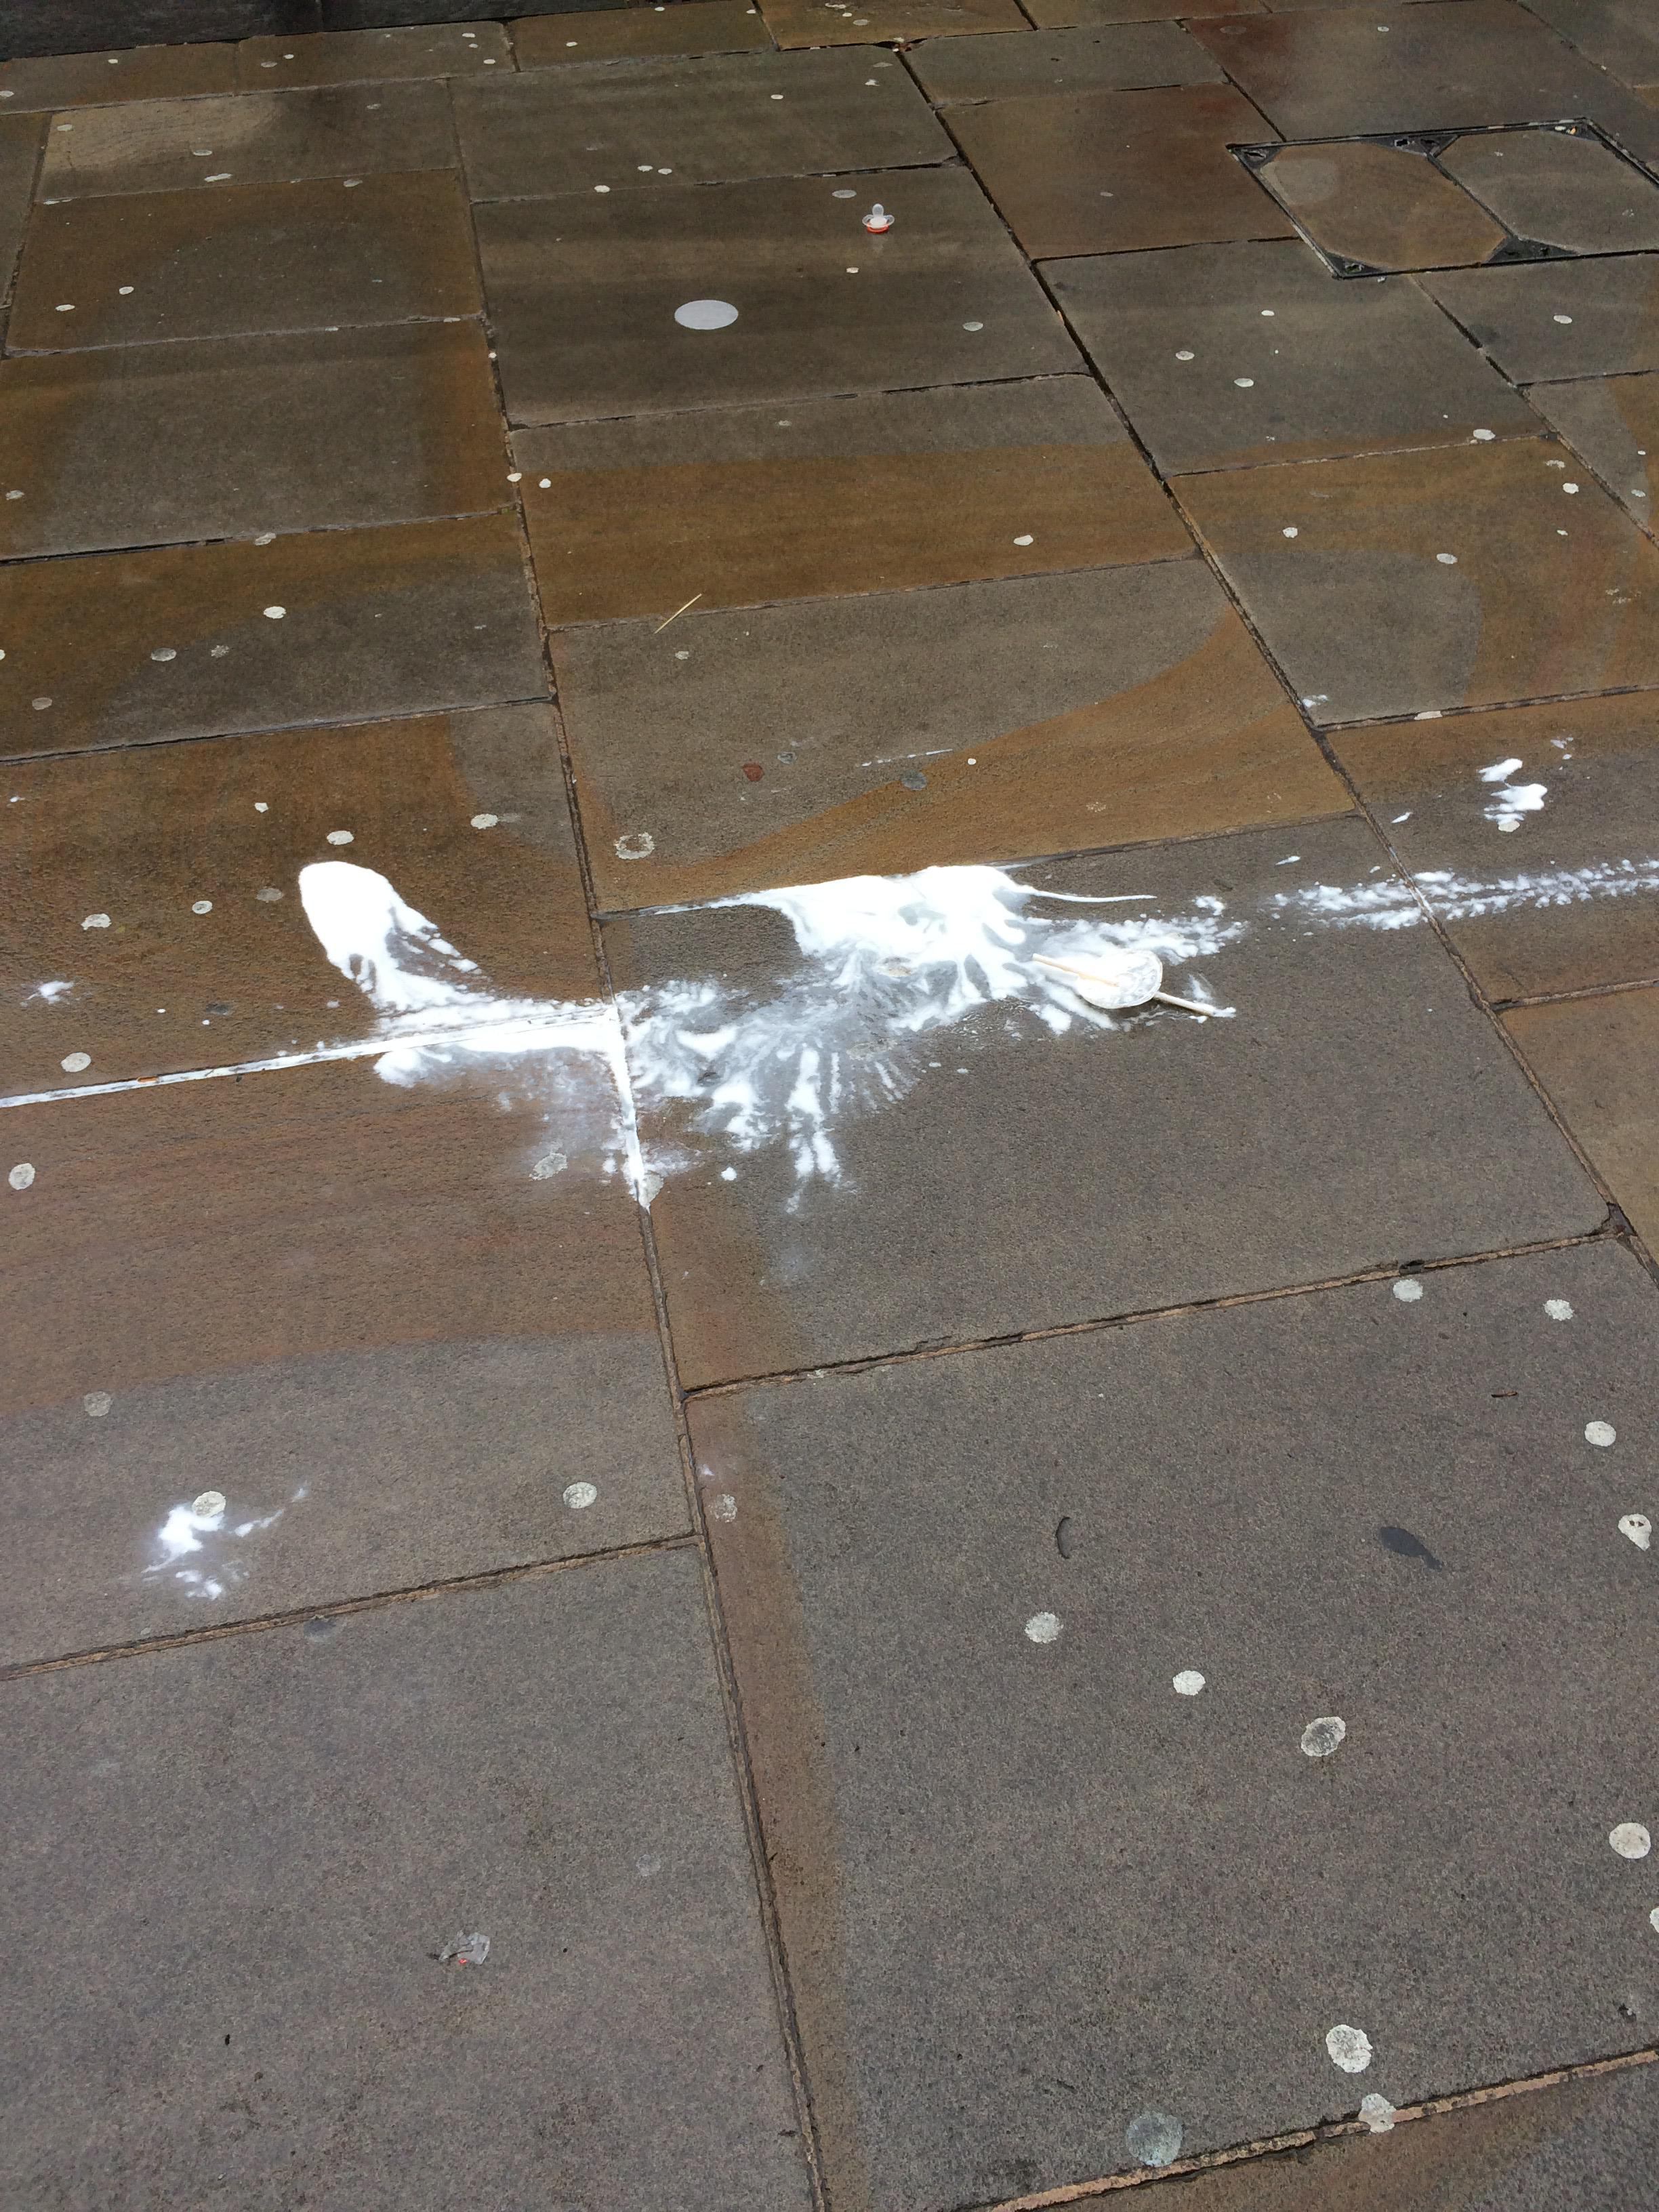Trash: (1025, 937, 1185, 1014)
